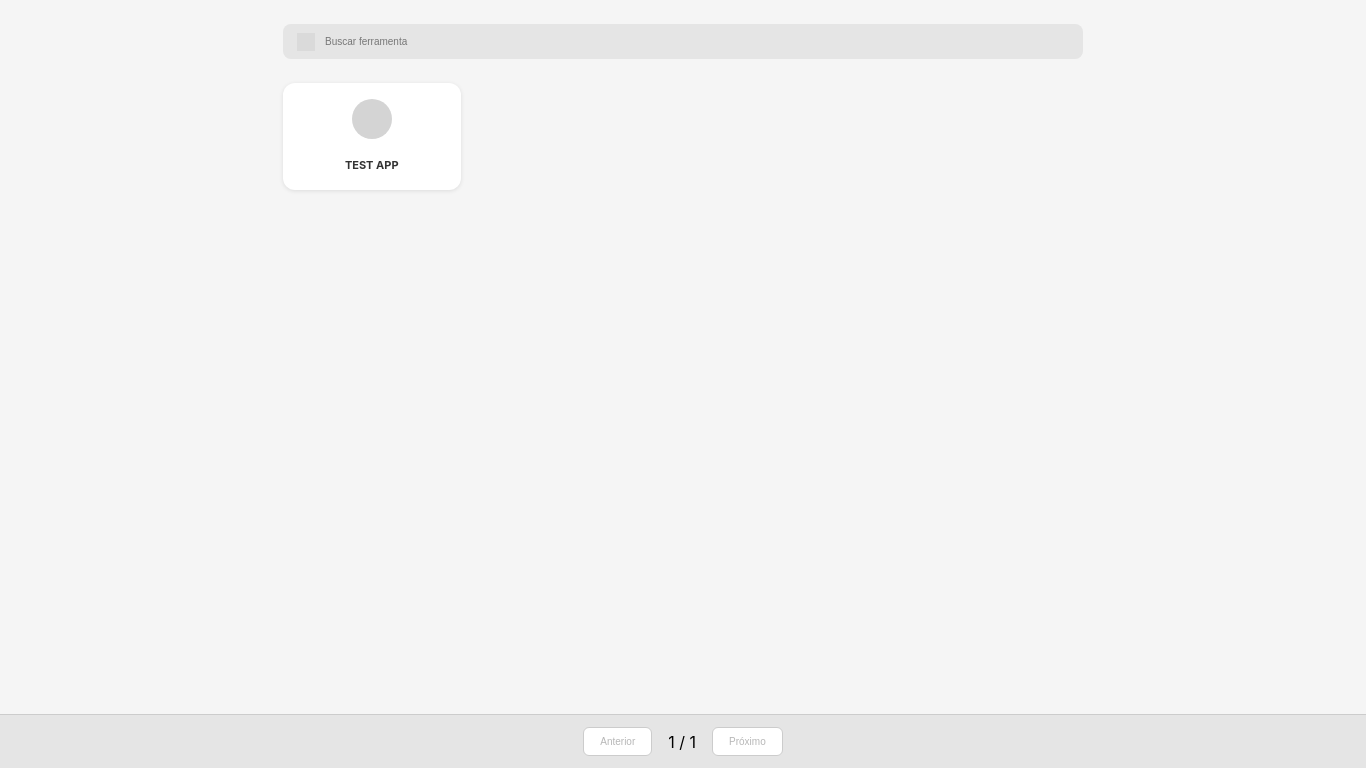
Test: App Componente › abre modal ao clicar
The width and height of the screenshot is (1366, 768).
Click the button "Test App".
click(372, 136)  # box [283, 83, 460, 190]
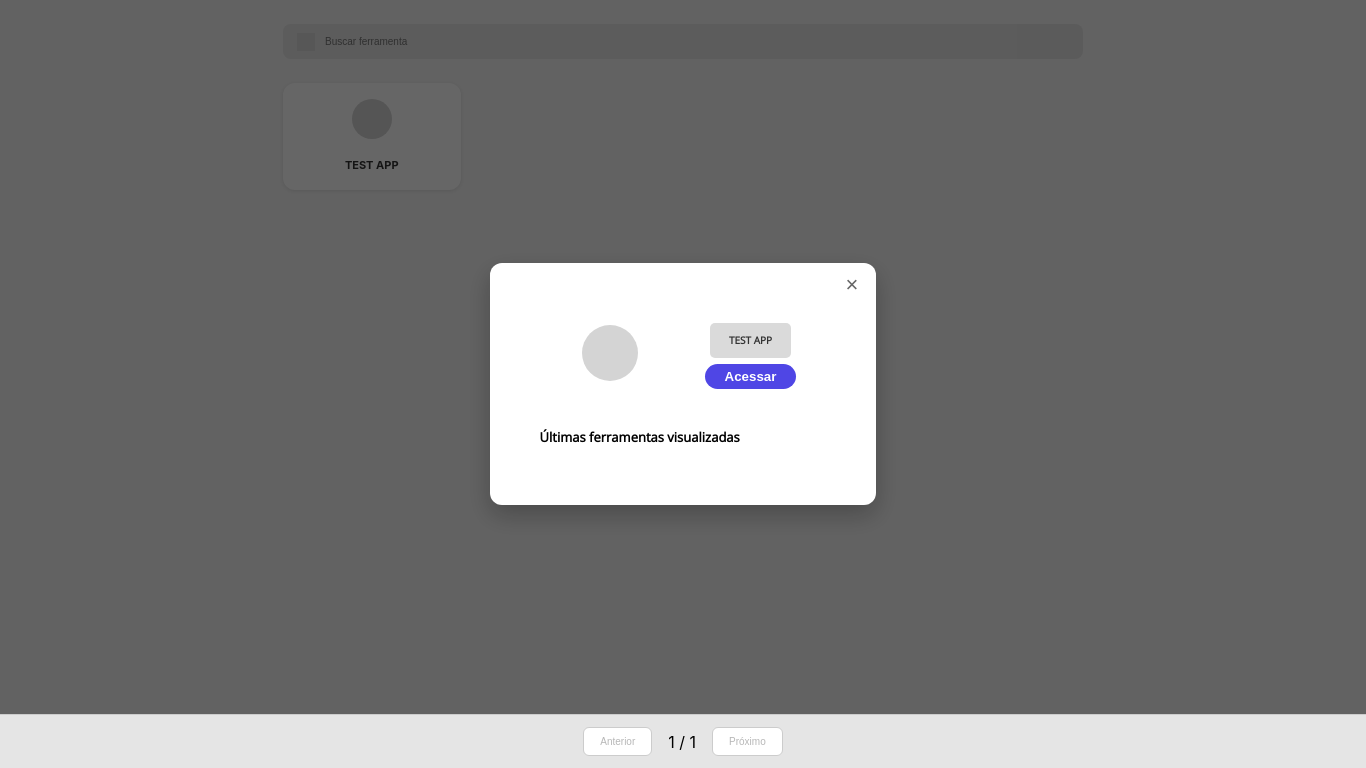
Check: the dialog is shown, box [490, 263, 876, 505]
